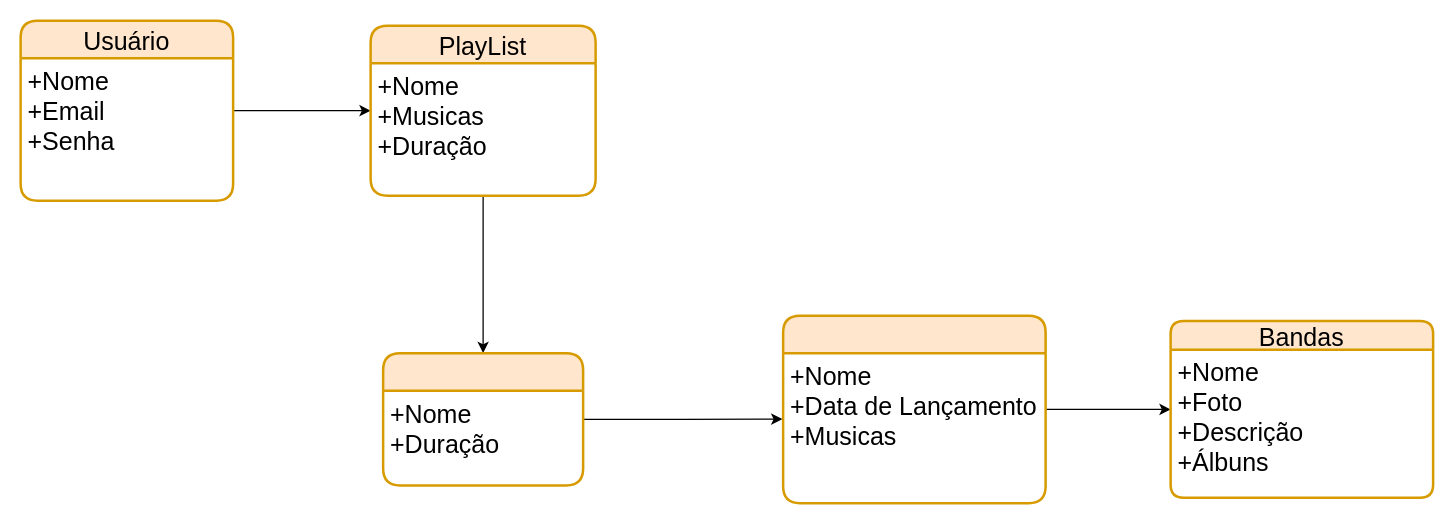
The diagram is 1454 pixels wide and 524 high, and some of its shapes have lost their labels. The box of each missing label's shape, as (x1, y1, x2, y2) in pixels:
Musicas: (381, 351, 584, 486)
Álbum: (781, 314, 1046, 504)
